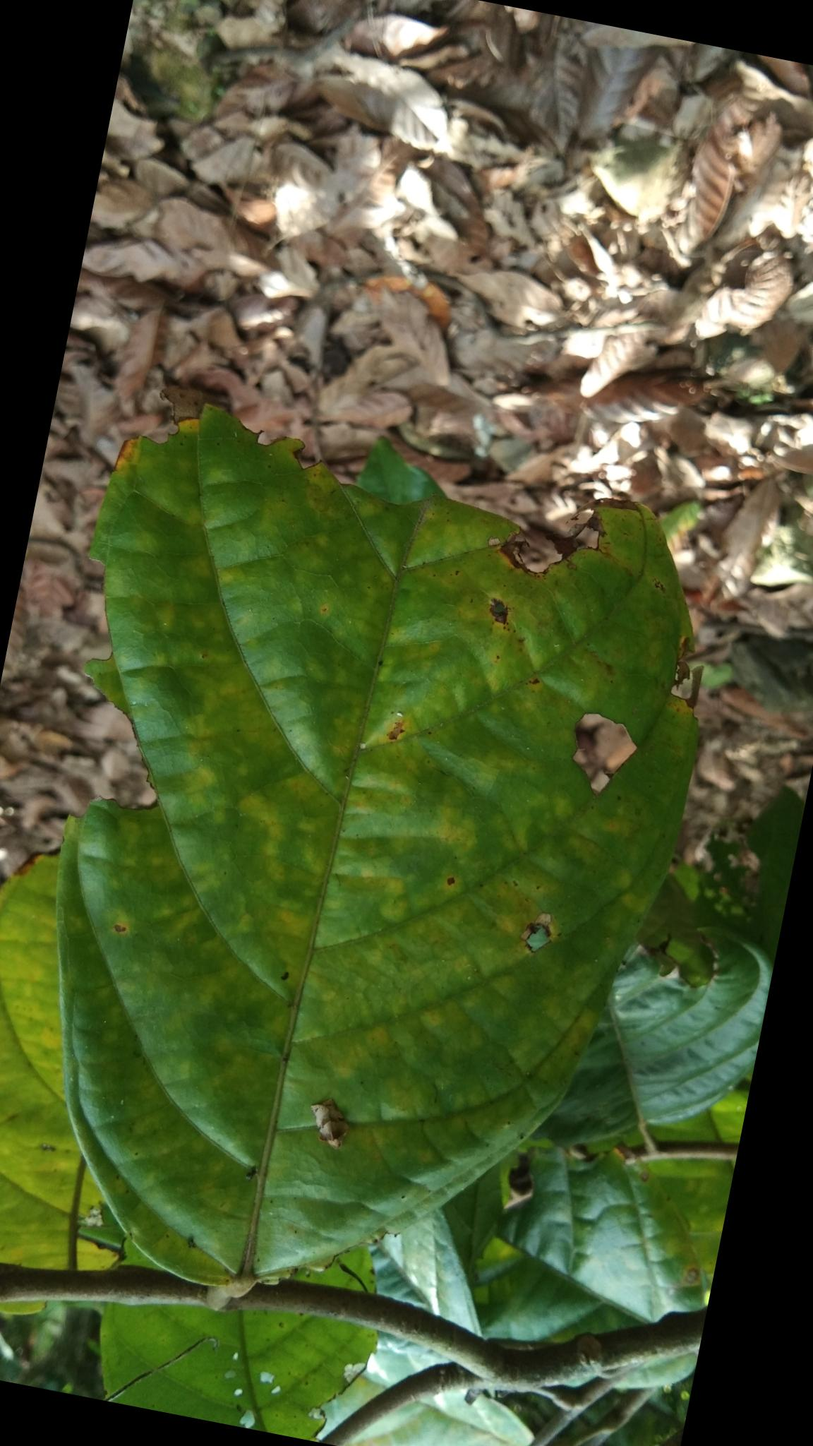Fosforo: (58, 409, 708, 1291)
